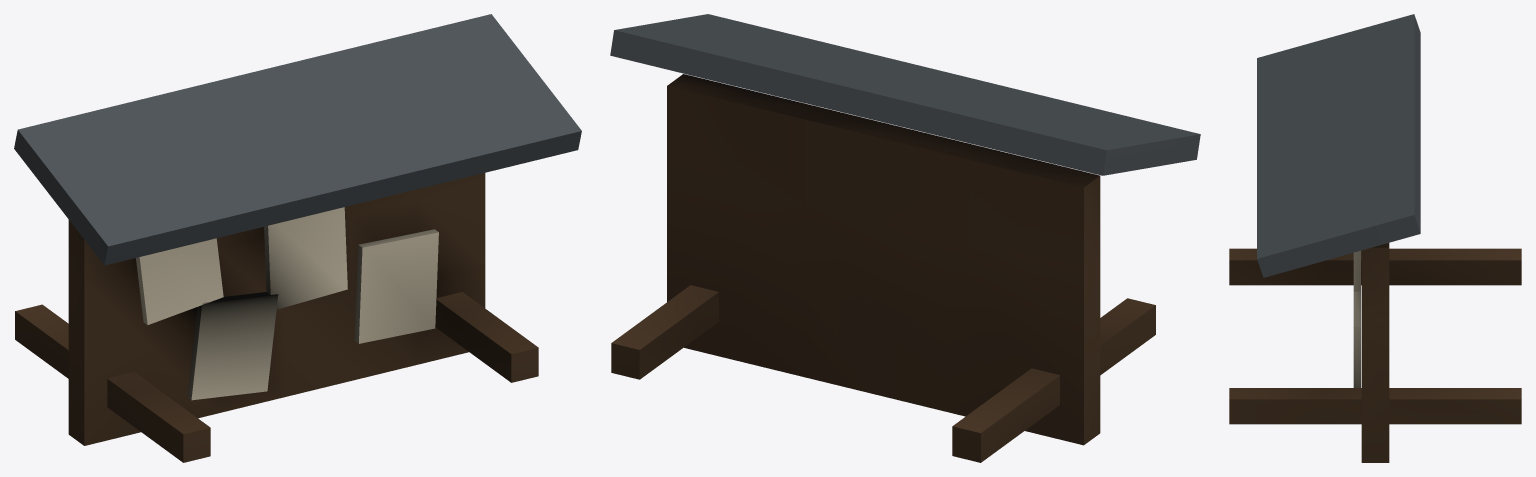
File: notice_board.glb
3 views of the same model, side by side, from view 1: azimuth 30°, elevation 25°; view 2: azimuth 150°, elevation 25°; view 3: azimuth 270°, elevation 25° (orthographic). The views are drawn at different scales.
Parts seen in each view (by area): view 1: notice_board; view 2: notice_board; view 3: notice_board.
Boxes of the visible parts, x1,y1,x2,y2 form: notice_board: (14, 14, 581, 462); notice_board: (610, 14, 1200, 462); notice_board: (1229, 14, 1521, 462).
Bounding box in the file's own units: 2.6 × 1.59 × 1.6.
